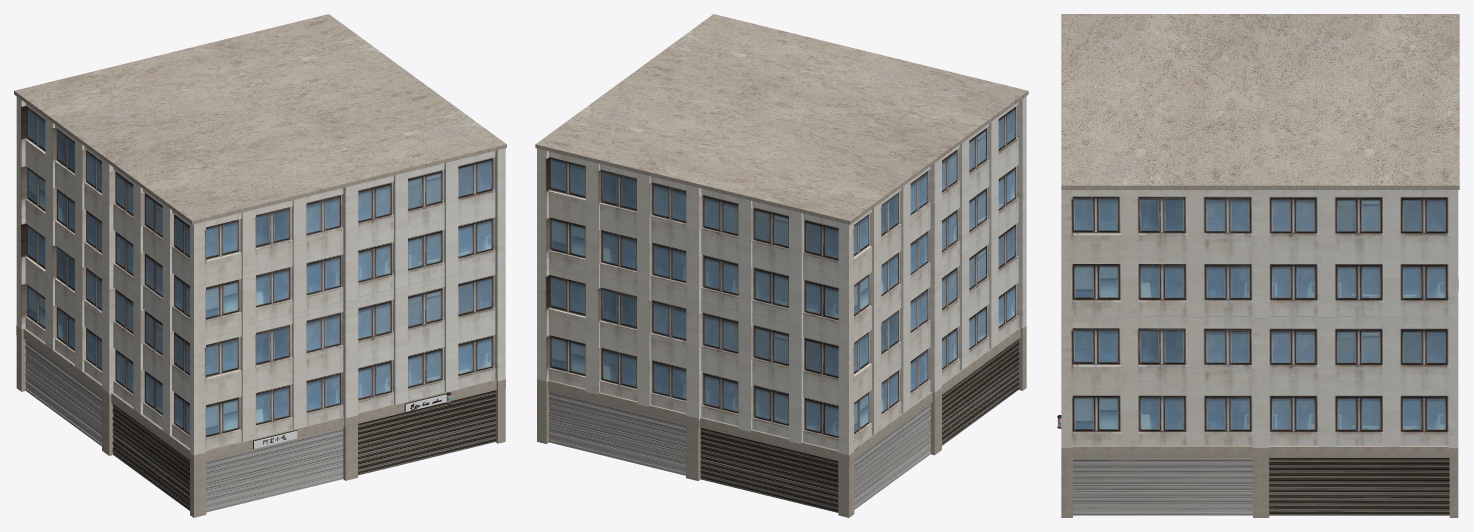
Rendered from 裝飾建築1.fbx.
The picture shows the model from 3 angles, left to right: view 1: azimuth 30°, elevation 25°; view 2: azimuth 150°, elevation 25°; view 3: azimuth 270°, elevation 25°; orthographic projection. The views are drawn at different scales.
Parts seen in each view (by area): view 1: Plane013, Plane002, Plane001, Plane005, Plane004, Plane003, Plane006, Plane008, Plane007; view 2: Plane013, Plane011, Plane010, Plane005, Plane004, Plane014, Plane006; view 3: Plane013, Plane008, Plane007, Plane009.
Part boxes in pixels (x1,y1,x2,y2): Plane013: (14,14,506,224); Plane002: (198,263,501,454); Plane001: (198,149,501,337); Plane005: (16,210,197,455); Plane004: (16,96,197,339); Plane003: (198,379,501,516); Plane006: (16,326,197,517); Plane008: (501,263,505,380); Plane007: (501,148,505,264); Plane013: (535,14,1028,224); Plane011: (541,263,845,454); Plane010: (541,149,845,338); Plane005: (845,209,1026,455); Plane004: (845,96,1026,339); Plane014: (537,379,844,516); Plane006: (845,326,1026,517); Plane013: (1061,14,1459,189); Plane008: (1061,316,1458,449); Plane007: (1061,190,1458,318); Plane009: (1061,445,1458,517).
Size of the model in its own units: 1844 by 1665 by 1824.
Materials: 9 (5 with a texture image).
